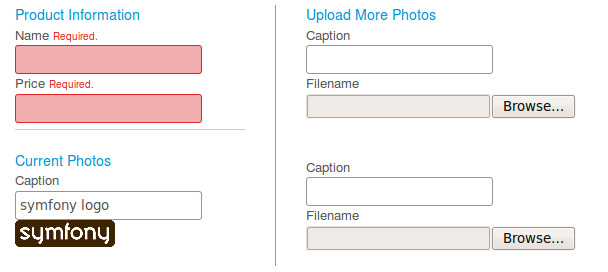error_field: (14, 43, 204, 75), (14, 93, 203, 124)
error_message: (48, 79, 93, 90), (53, 31, 97, 41)
